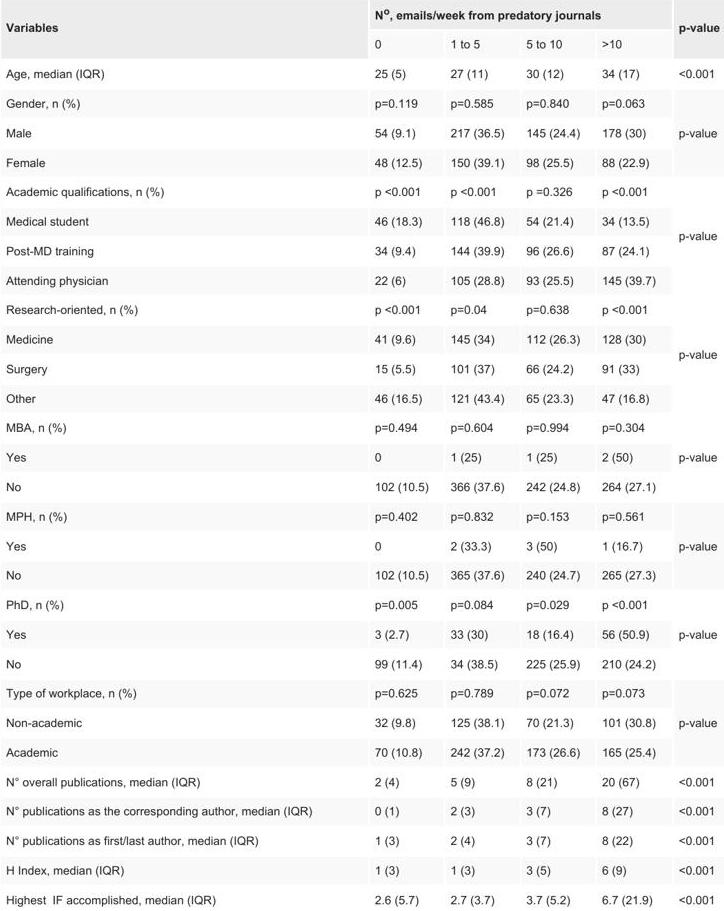table: (5, 4, 719, 905)
table column: (5, 4, 342, 905), (342, 4, 438, 905), (438, 4, 514, 905), (514, 4, 590, 905), (590, 4, 666, 905), (666, 4, 719, 905)
table column header: (5, 4, 719, 58)
table row: (5, 58, 719, 88), (5, 117, 719, 147), (5, 176, 719, 206), (5, 235, 719, 265), (5, 294, 719, 324), (5, 353, 719, 383), (5, 412, 719, 442), (5, 471, 719, 501), (5, 530, 719, 560), (5, 589, 719, 619), (5, 648, 719, 678), (5, 707, 719, 737), (5, 766, 719, 796), (5, 825, 719, 855), (5, 29, 719, 58), (5, 88, 719, 117), (5, 147, 719, 176), (5, 206, 719, 235), (5, 265, 719, 294), (5, 324, 719, 353), (5, 383, 719, 412), (5, 442, 719, 471), (5, 501, 719, 530), (5, 560, 719, 589), (5, 619, 719, 648), (5, 678, 719, 707), (5, 737, 719, 766), (5, 796, 719, 825), (5, 855, 719, 884), (5, 4, 719, 29), (5, 884, 719, 905)
table spanning cell: (5, 4, 342, 58), (342, 4, 666, 29), (666, 176, 719, 294), (666, 294, 719, 412), (666, 412, 719, 501), (666, 589, 719, 678), (666, 88, 719, 176), (666, 501, 719, 589), (666, 678, 719, 766), (666, 4, 719, 58)
